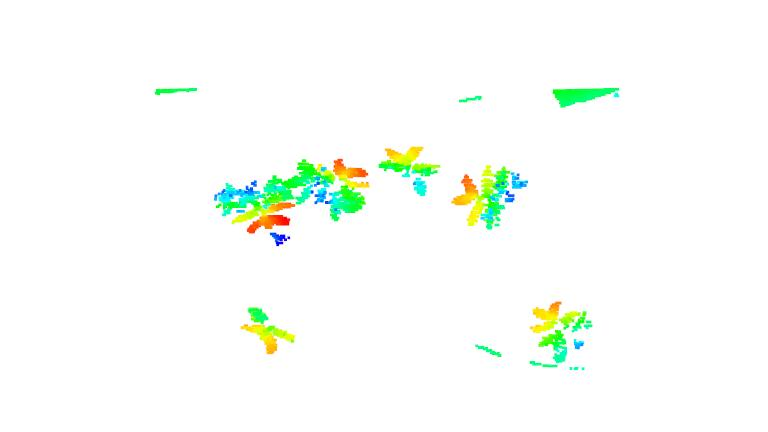chickpea: (210, 174, 291, 247), (286, 158, 368, 220), (458, 163, 528, 233), (529, 300, 591, 368), (376, 144, 443, 201), (238, 305, 298, 357)
